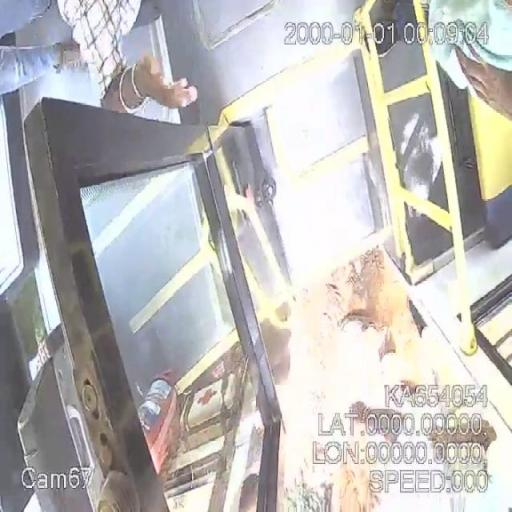persona: (49, 0, 198, 125)
